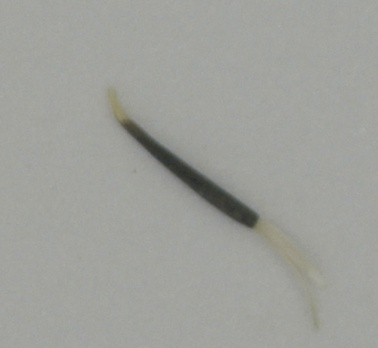เมล็ดดีเรียวยาว: (107, 89, 326, 329)
